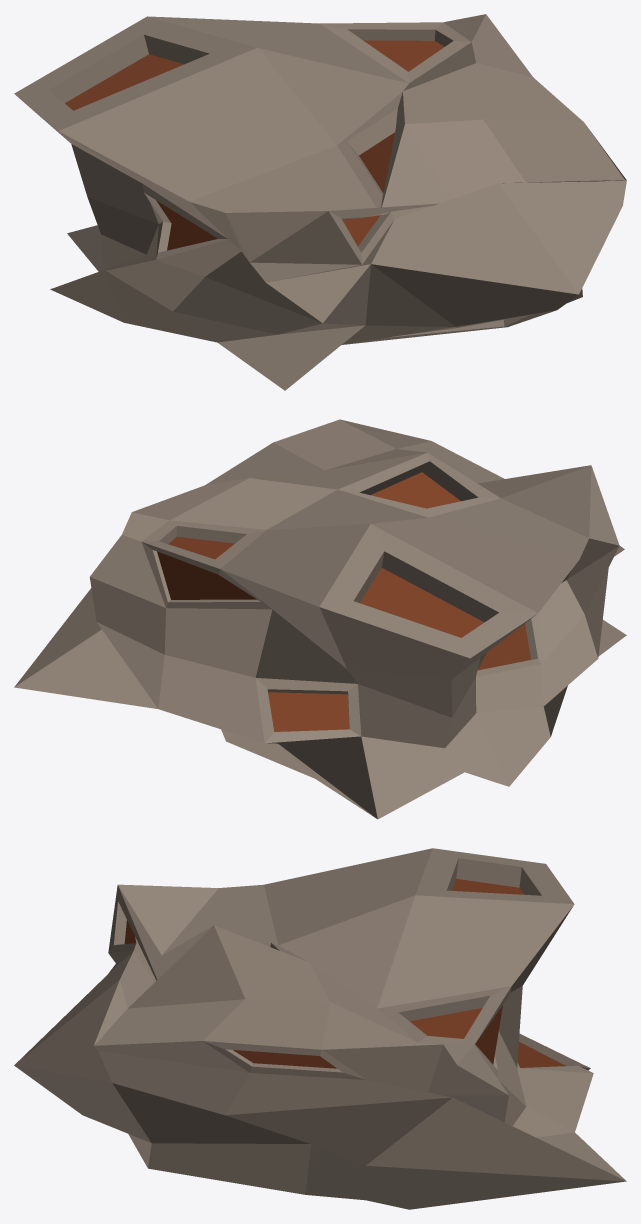
Rendered from bronze_ore_.fbx.
3 views of the same model, one above another, from view 1: azimuth 30°, elevation 25°; view 2: azimuth 150°, elevation 25°; view 3: azimuth 270°, elevation 25° (orthographic). The views are drawn at different scales.
Visible parts, largest first — view 1: BronzeOre; view 2: BronzeOre; view 3: BronzeOre.
Part boxes in pixels (x1,y1,x2,y2): BronzeOre: (14,14,626,390); BronzeOre: (14,419,626,819); BronzeOre: (14,848,626,1209).
Bounding box in the file's own units: 228 × 107 × 271.
